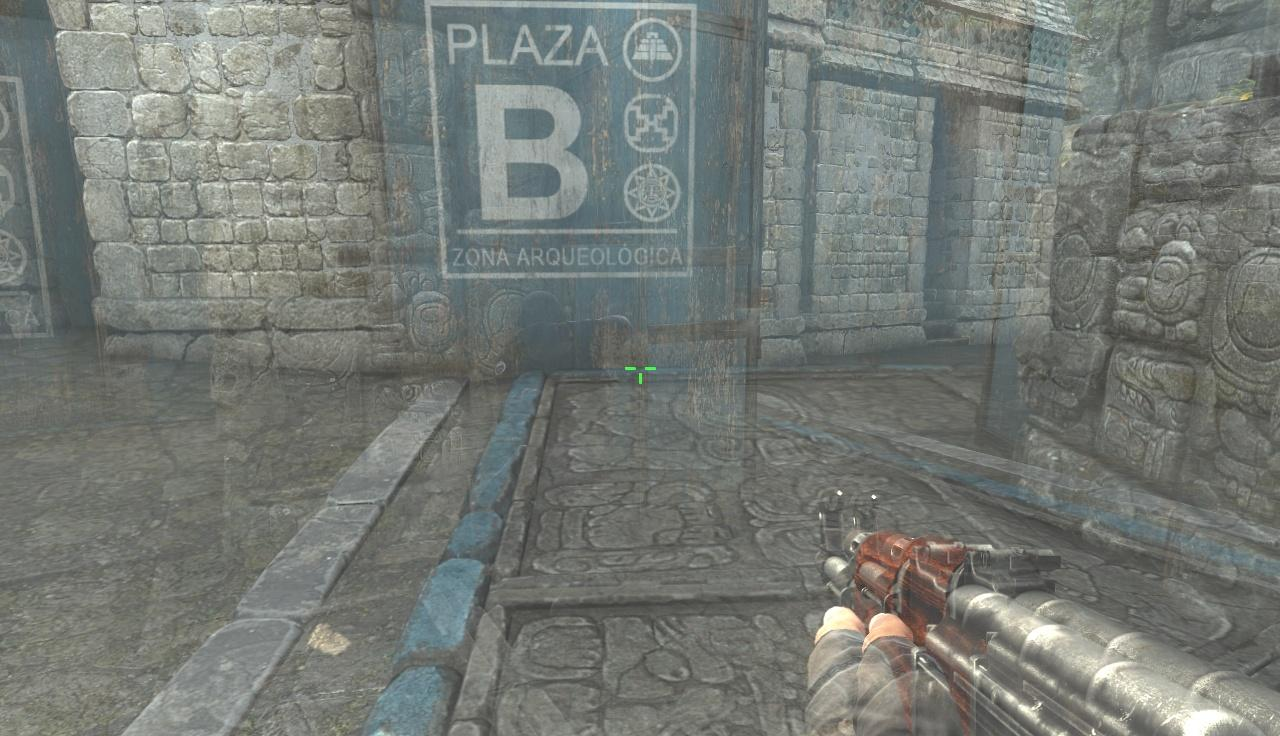rifle: (821, 493, 1280, 736)
